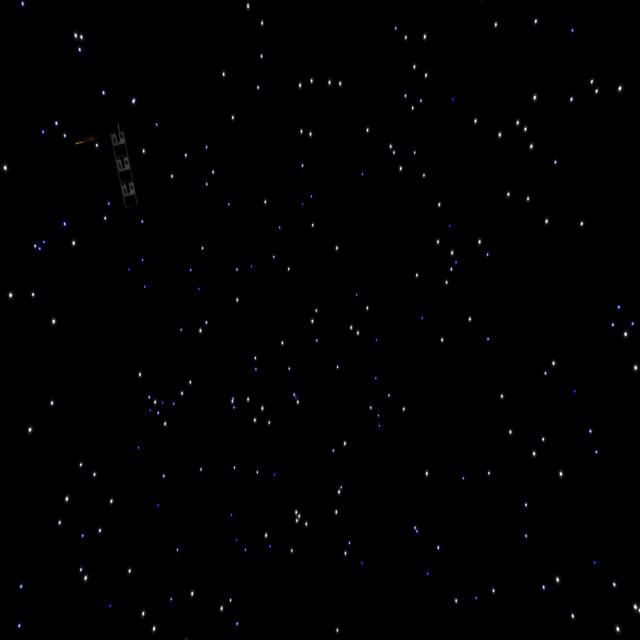satellite: (70, 101, 164, 209)
